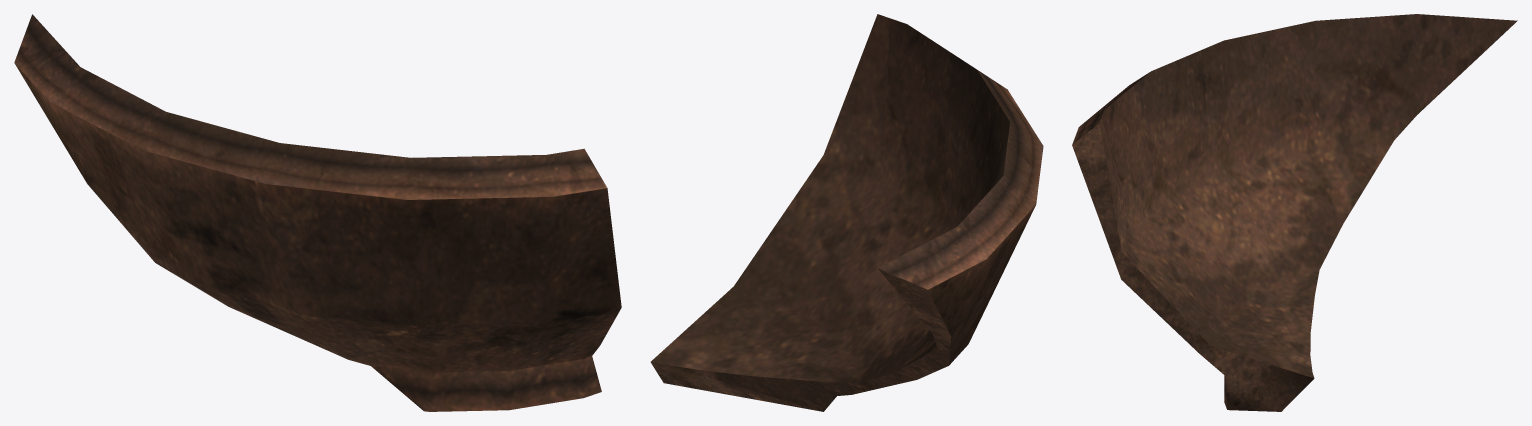
Rendered from BowlEmptyShardD.fbx.
The picture shows the model from 3 angles, left to right: view 1: azimuth 30°, elevation 25°; view 2: azimuth 150°, elevation 25°; view 3: azimuth 270°, elevation 25°; orthographic projection. The views are drawn at different scales.
Visible parts, largest first — view 1: Default_Layer; view 2: Default_Layer; view 3: Default_Layer.
Boxes of the visible parts, x1,y1,x2,y2 form: Default_Layer: [14, 14, 621, 411]; Default_Layer: [650, 14, 1043, 411]; Default_Layer: [1072, 14, 1517, 411].
Size of the model in its own units: 33.72 by 24.59 by 39.79.
